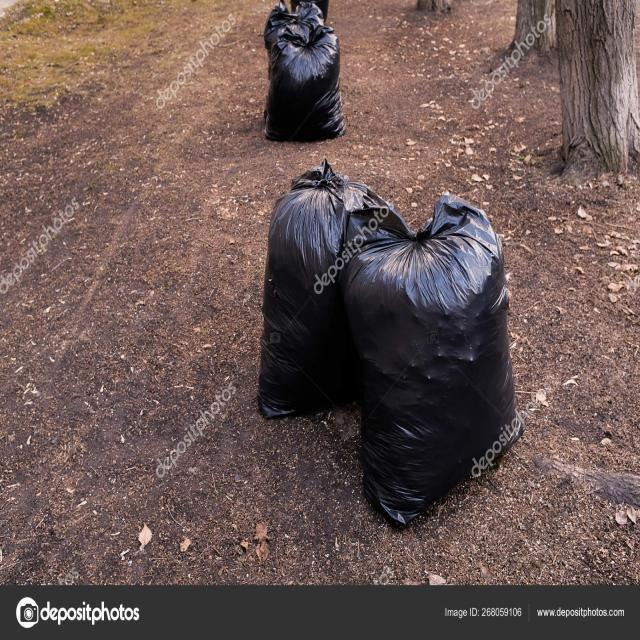Trashbag: (348, 218, 522, 516), (246, 170, 371, 422), (260, 5, 352, 147)
